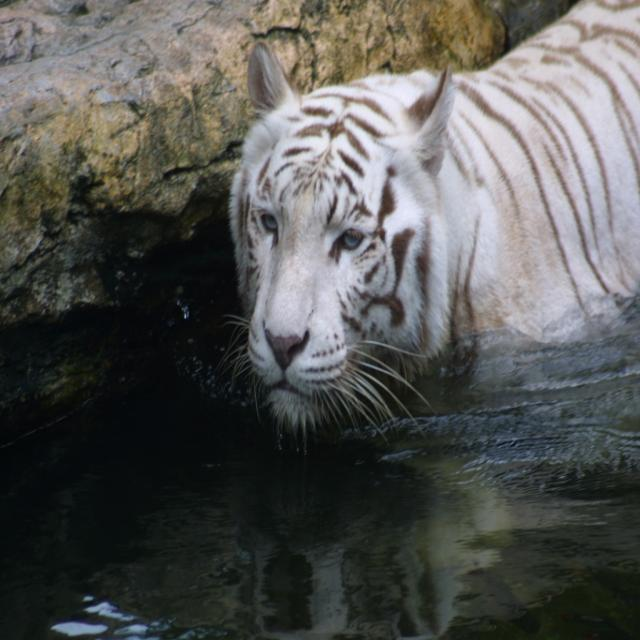Tiger: (216, 4, 640, 482)
